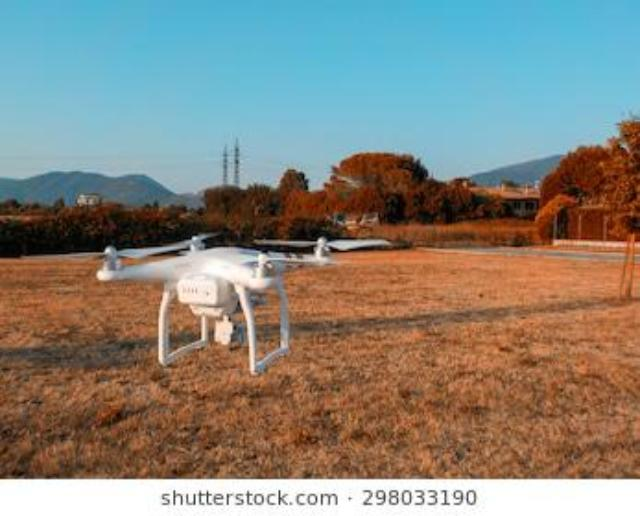drone: (58, 188, 408, 390)
